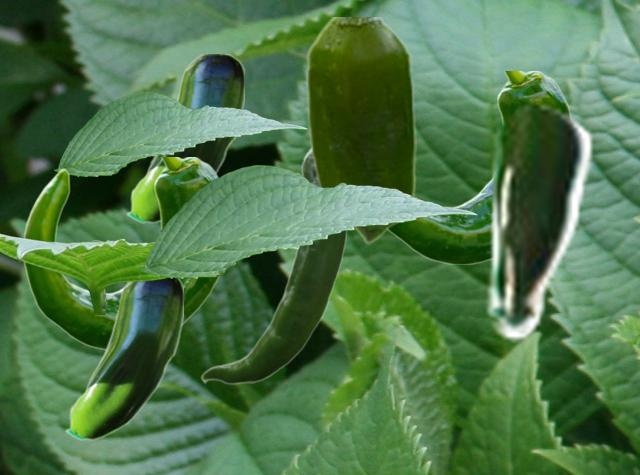green_chili: (22, 157, 220, 349), (387, 71, 573, 263), (200, 148, 348, 384), (480, 101, 594, 341), (305, 17, 415, 243), (125, 54, 243, 223), (64, 278, 182, 440)
